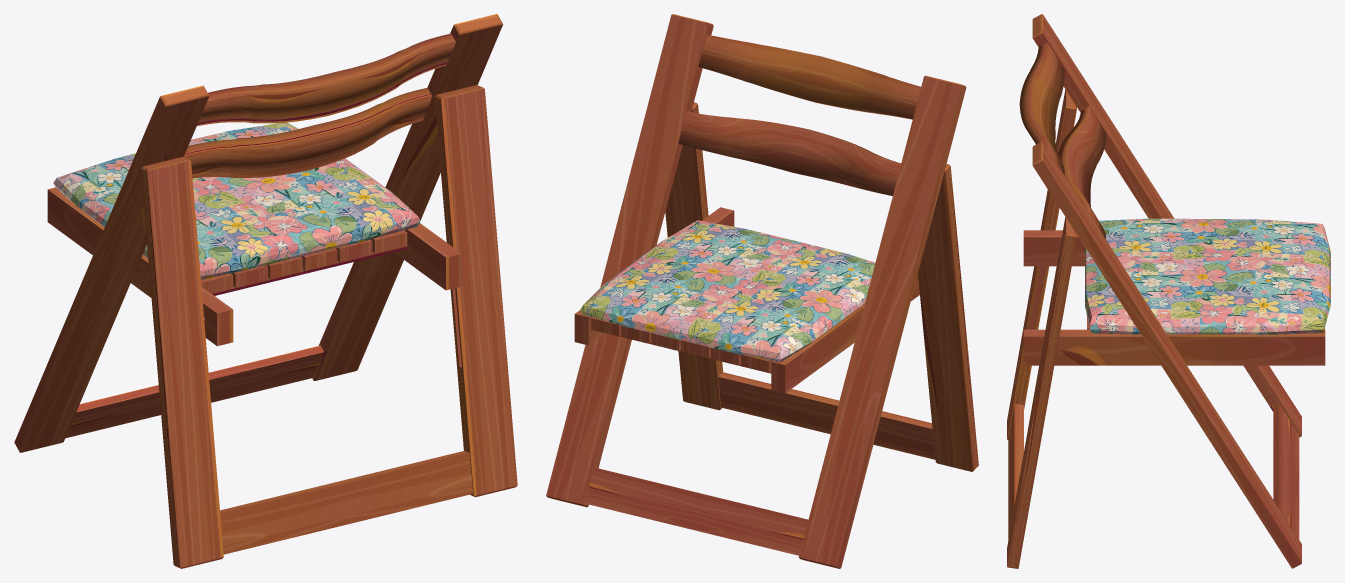
The model's file is Chaise.fbx.
3 views of the same model, side by side, from view 1: azimuth 30°, elevation 25°; view 2: azimuth 150°, elevation 25°; view 3: azimuth 270°, elevation 25° (orthographic). The views are drawn at different scales.
Parts seen in each view (by area): view 1: Chaise, Coussin, BézierCurve.001, BézierCurve; view 2: Chaise, Coussin, BézierCurve.001, BézierCurve; view 3: Chaise, Coussin, BézierCurve.001, BézierCurve.
Boxes of the visible parts, bbox=[...] form: Chaise: bbox=[14, 14, 517, 568]; Coussin: bbox=[53, 122, 420, 279]; BézierCurve.001: bbox=[197, 33, 455, 126]; BézierCurve: bbox=[184, 88, 432, 178]; Chaise: bbox=[546, 14, 978, 568]; Coussin: bbox=[580, 220, 875, 362]; BézierCurve.001: bbox=[698, 34, 920, 119]; BézierCurve: bbox=[678, 111, 901, 195]; Chaise: bbox=[1007, 14, 1325, 568]; Coussin: bbox=[1085, 218, 1330, 334]; BézierCurve.001: bbox=[1019, 42, 1064, 174]; BézierCurve: bbox=[1057, 106, 1105, 238].
Bounding box in the file's own units: 601 × 784 × 561.
4 materials, 4 textured.
